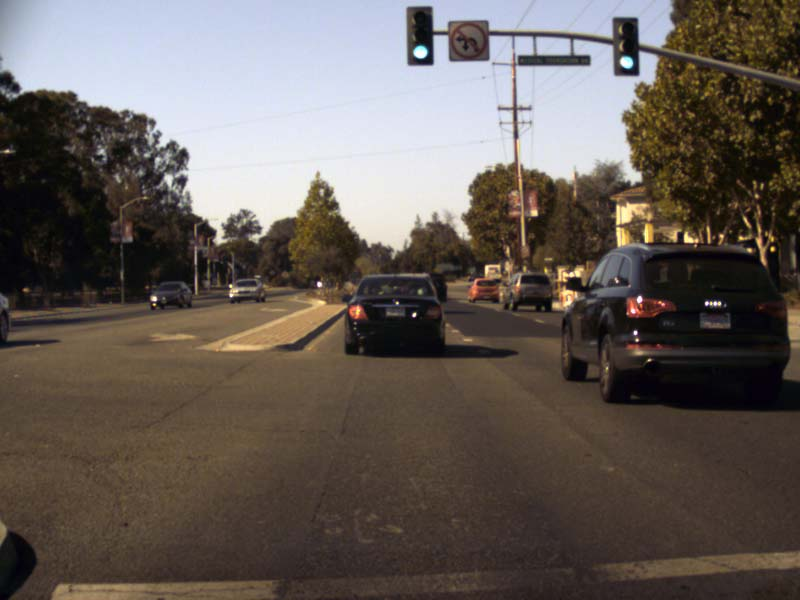Green: (407, 5, 432, 64), (612, 18, 637, 73)
